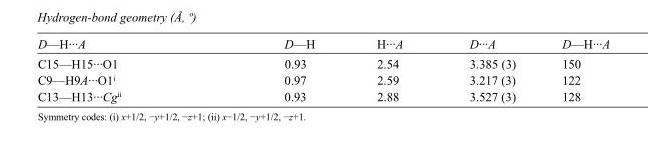table: (36, 36, 609, 102)
table column: (36, 36, 202, 102), (202, 36, 345, 102), (435, 36, 538, 102), (345, 36, 435, 102), (538, 36, 609, 102)
table row: (36, 53, 609, 71), (36, 36, 609, 53), (36, 71, 609, 88), (36, 88, 609, 102)
